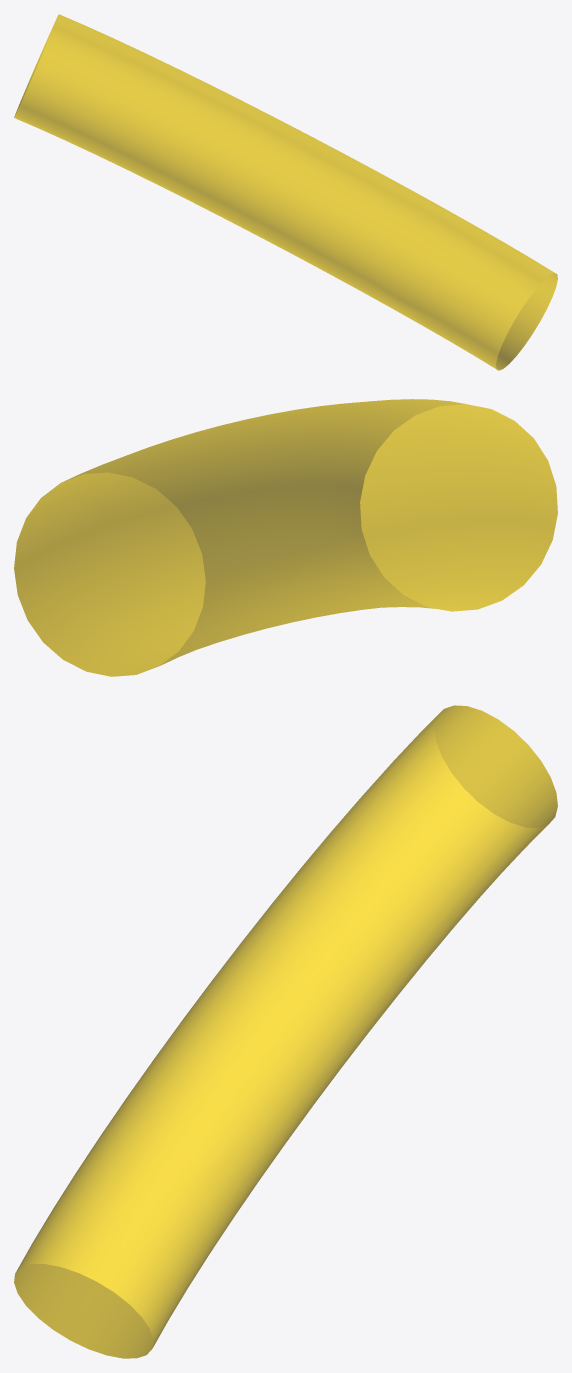
The model's file is Event_15818458_track_47.fbx.
3 renders of one model, top to bottom at view 1: azimuth 30°, elevation 25°; view 2: azimuth 150°, elevation 25°; view 3: azimuth 270°, elevation 25°, orthographic. The views are drawn at different scales.
Visible parts, largest first — view 1: Model; view 2: Model; view 3: Model.
Boxes of the visible parts, x1,y1,x2,y2 form: Model: [14, 14, 557, 370]; Model: [14, 399, 557, 676]; Model: [14, 705, 557, 1358].
Size of the model in its own units: 0.1665 by 0.1243 by 0.1389.
